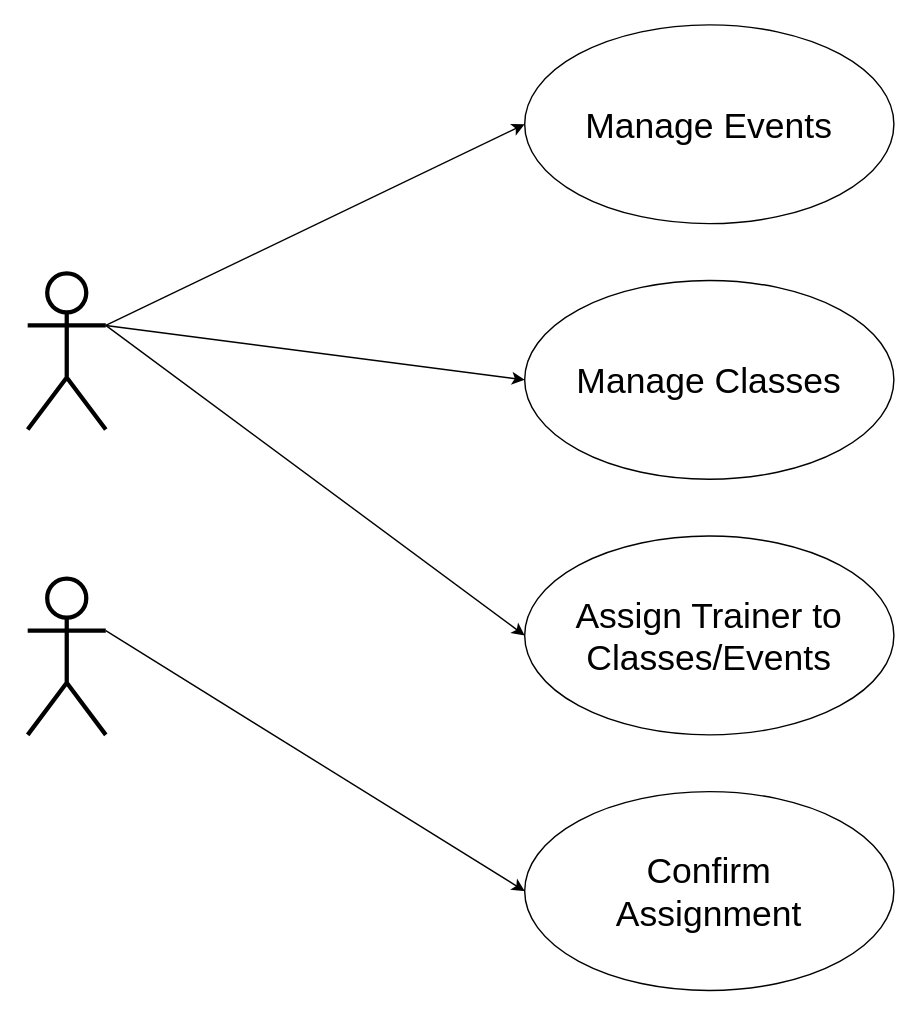
Image size: 919x1015. Some labels were removed from this diagram. The shapes that lost their labels are listed below. From the top down, each one's box as (x1, y1, x2, y2) in pixels, then its label:
(25, 271, 107, 431): Staff
(25, 576, 107, 736): Trainer
